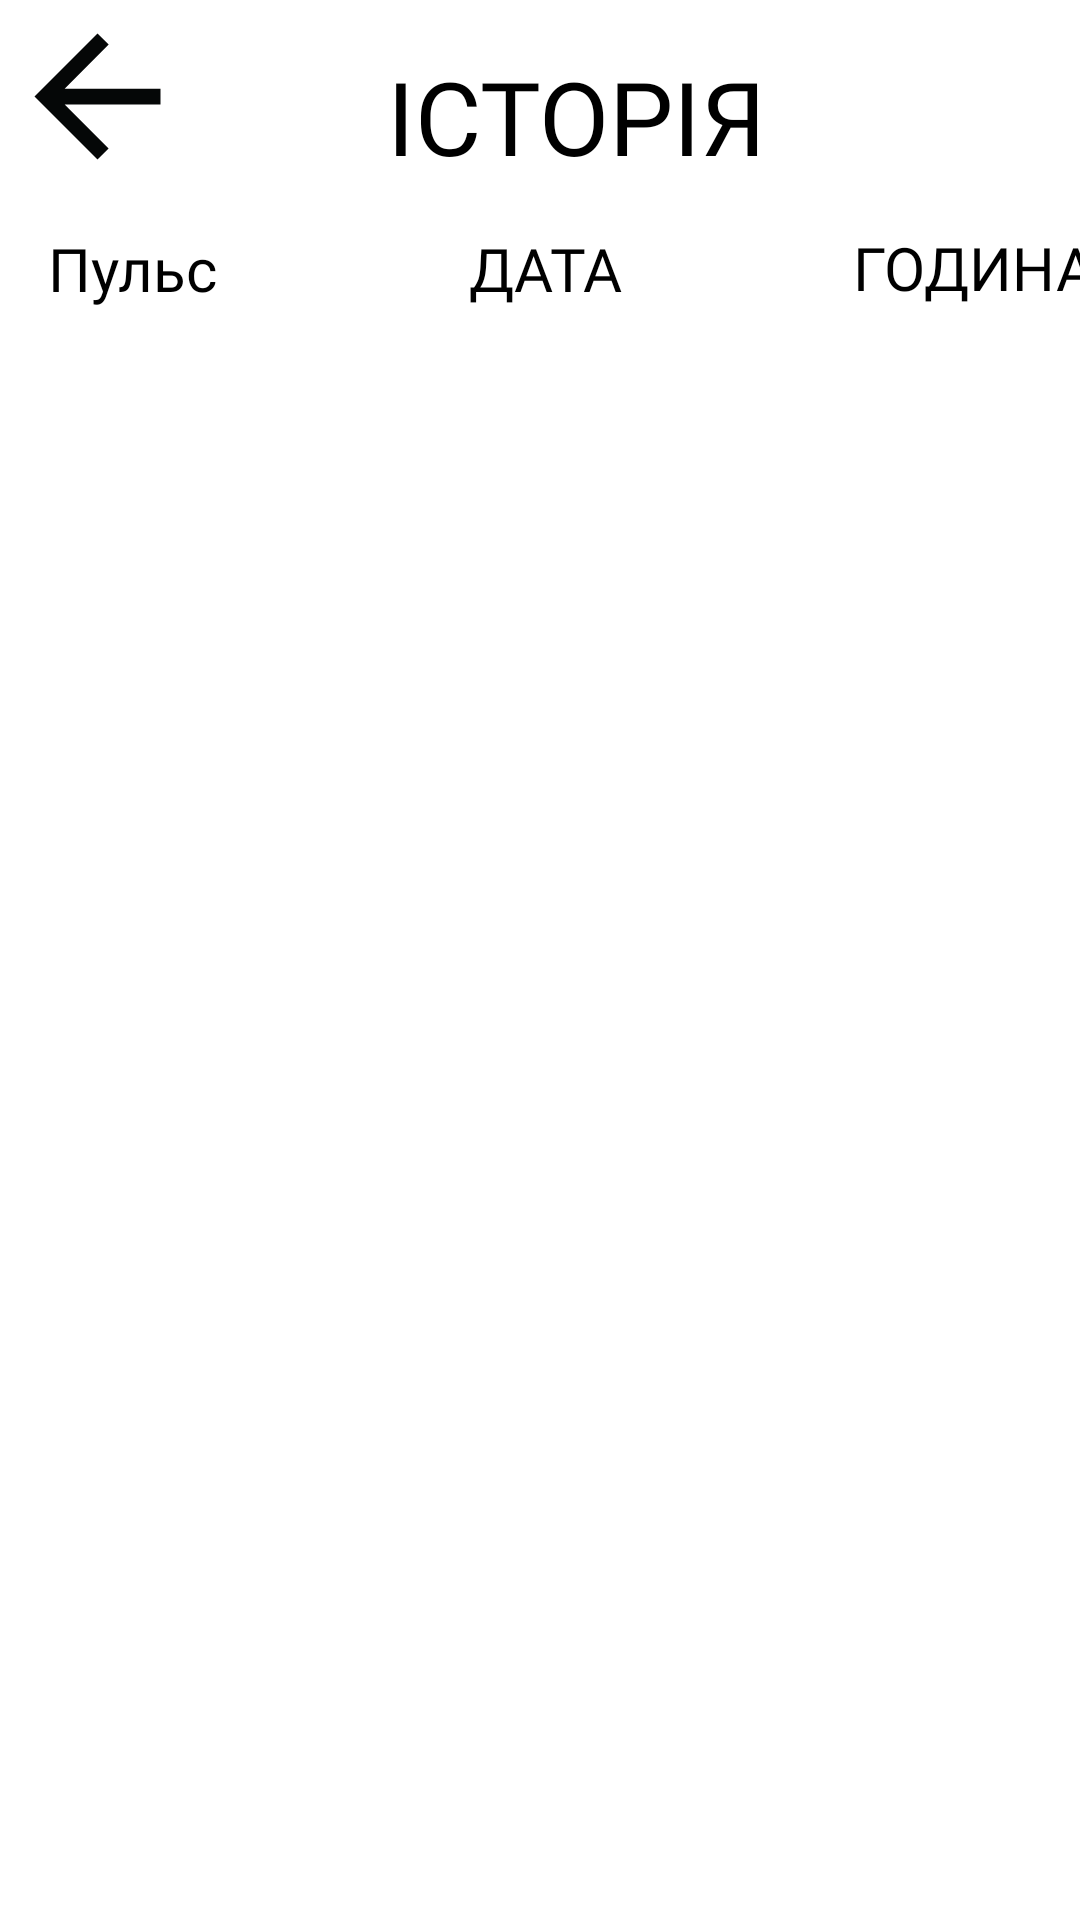

Screen size 1080 × 1920. Icon name, then its box in pixels as (x1, y1, x2, y2):
back: (34, 33, 161, 160)
